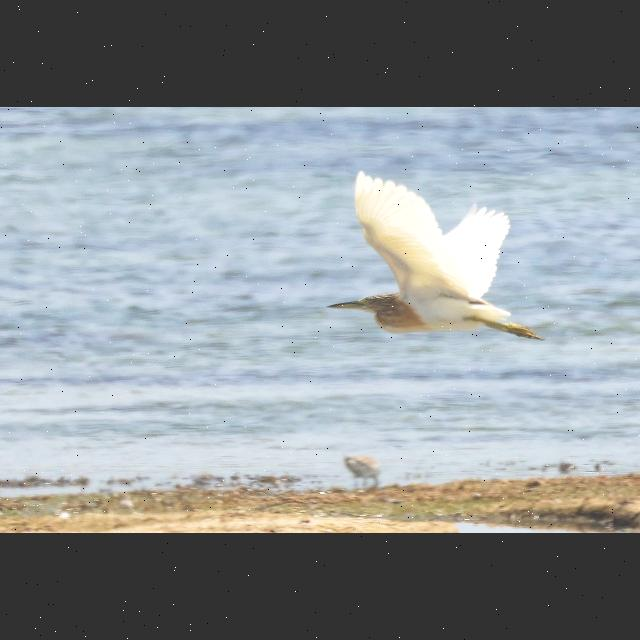heron: (327, 166, 549, 348)
